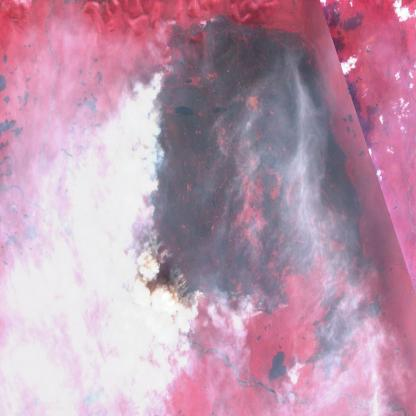fire: (126, 17, 273, 335), (298, 318, 378, 391)
